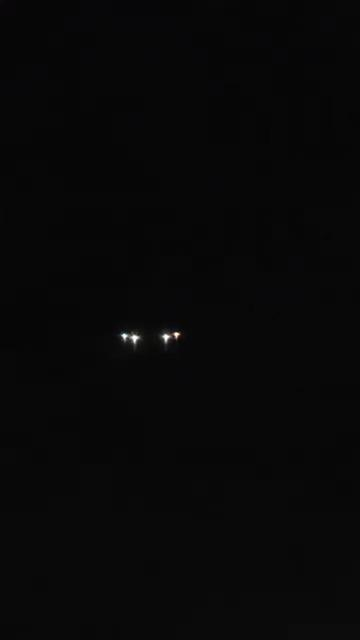Plane: (91, 293, 203, 377)
